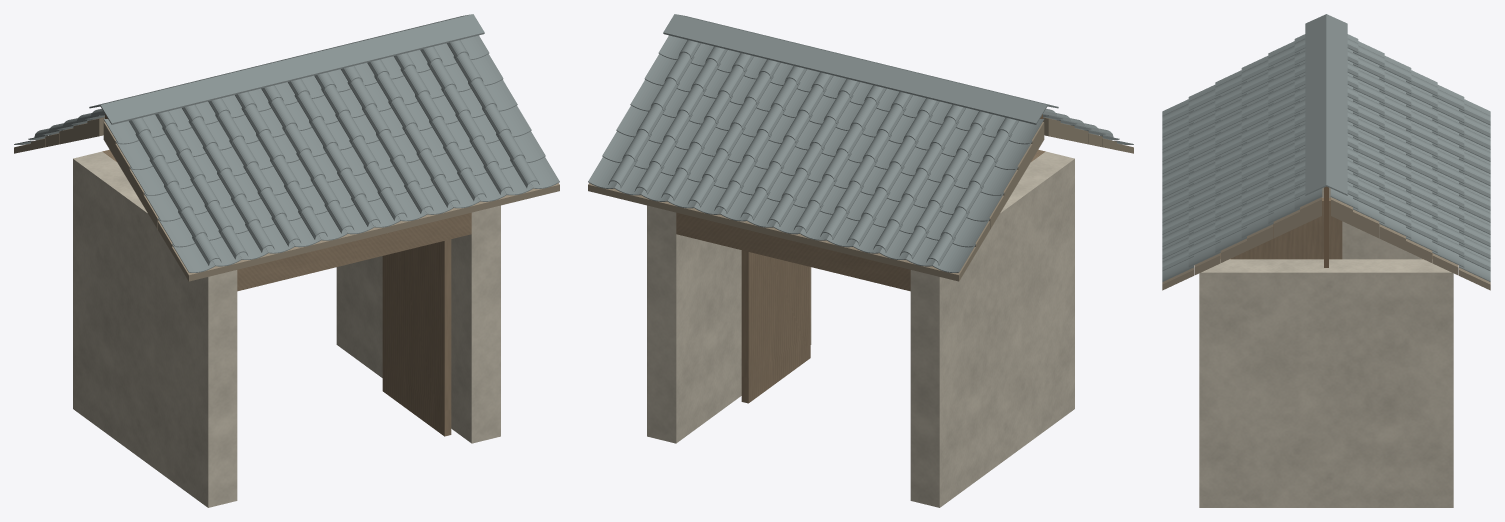
Rendered from gate-roof.glb.
3 views of the same model, side by side, from view 1: azimuth 30°, elevation 25°; view 2: azimuth 150°, elevation 25°; view 3: azimuth 270°, elevation 25° (orthographic). The views are drawn at different scales.
Visible parts, largest first — view 1: original_gate_C02-010__architecture_C_whitebox_earth_wall.00, original_gate_C02-010__architecture_C_plain_timber.001, C_continuous_ridge_cap, C_bedding_1_0, pan_1_0_0, pan_1_2_0, pan_1_1_0, pan_1_4_0, pan_1_3_0, pan_1_0_13; view 2: original_gate_C02-010__architecture_C_whitebox_earth_wall.00, original_gate_C02-010__architecture_C_plain_timber.001, C_continuous_ridge_cap, C_bedding_-1_0, pan_-1_0_13, pan_-1_2_13, pan_-1_1_13, pan_-1_4_13, pan_-1_3_13, pan_-1_0_0; view 3: original_gate_C02-010__architecture_C_whitebox_earth_wall.00, C_continuous_ridge_cap, original_gate_C02-010__architecture_C_plain_timber.001, C_bedding_1_4, C_bedding_-1_4, C_bedding_1_5, C_bedding_-1_5, C_bedding_1_3, C_bedding_-1_3.
Boxes of the visible parts, x1,y1,x2,y2 form: original_gate_C02-010__architecture_C_whitebox_earth_wall.00: [73, 151, 500, 507]; original_gate_C02-010__architecture_C_plain_timber.001: [102, 149, 471, 436]; C_continuous_ridge_cap: [89, 14, 484, 124]; C_bedding_1_0: [172, 183, 559, 281]; pan_1_0_0: [172, 243, 215, 272]; pan_1_2_0: [143, 192, 181, 221]; pan_1_1_0: [158, 218, 195, 247]; pan_1_4_0: [115, 140, 152, 169]; pan_1_3_0: [129, 166, 166, 195]; pan_1_0_13: [527, 157, 559, 188]; original_gate_C02-010__architecture_C_whitebox_earth_wall.00: [647, 151, 1074, 507]; original_gate_C02-010__architecture_C_plain_timber.001: [676, 149, 1045, 403]; C_continuous_ridge_cap: [663, 14, 1058, 124]; C_bedding_-1_0: [588, 183, 975, 281]; pan_-1_0_13: [932, 243, 975, 272]; pan_-1_2_13: [966, 192, 1004, 221]; pan_-1_1_13: [952, 218, 989, 247]; pan_-1_4_13: [995, 140, 1032, 169]; pan_-1_3_13: [981, 166, 1018, 195]; pan_-1_0_0: [588, 157, 620, 188]; original_gate_C02-010__architecture_C_whitebox_earth_wall.00: [1199, 187, 1453, 507]; C_continuous_ridge_cap: [1305, 14, 1347, 195]; original_gate_C02-010__architecture_C_plain_timber.001: [1220, 198, 1432, 259]; C_bedding_1_4: [1273, 209, 1299, 238]; C_bedding_-1_4: [1353, 209, 1379, 238]; C_bedding_1_5: [1300, 197, 1321, 225]; C_bedding_-1_5: [1331, 197, 1352, 225]; C_bedding_1_3: [1247, 224, 1273, 250]; C_bedding_-1_3: [1379, 224, 1405, 250].
Size of the model in its own units: 3.82 by 3.56 by 3.1.
Materials: 5 (2 with a texture image).
